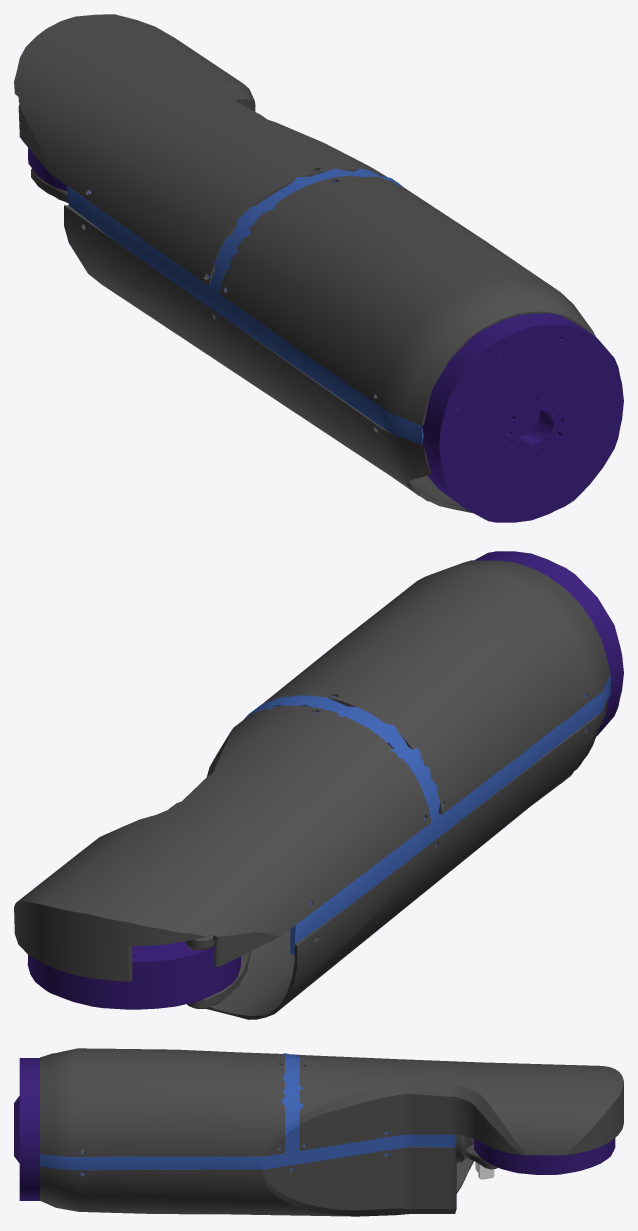
Rendered from right_shoulder_yaw.obj.
The picture shows the model from 3 angles, top to bottom: view 1: azimuth 30°, elevation 25°; view 2: azimuth 150°, elevation 25°; view 3: azimuth 270°, elevation 25°; orthographic projection. The views are drawn at different scales.
Parts seen in each view (by area): view 1: Left_Shell, AK80_9, Right_Shell, Back_Seam, Part_6; view 2: Left_Shell, Right_Shell, AK80_9, Back_Seam, Part_6, N16_23_P03_02_Link_Upper_Arm___Distal_Mount; view 3: Left_Shell, Right_Shell, AK80_9, Front_Seam, Part_6, N16_23_P03_02_Link_Upper_Arm___Distal_Mount.
Boxes of the visible parts, bbox=[...] form: Left_Shell: bbox=[14, 14, 595, 425]; AK80_9: bbox=[28, 147, 623, 522]; Right_Shell: bbox=[64, 205, 472, 513]; Back_Seam: bbox=[67, 186, 423, 445]; Part_6: bbox=[209, 168, 403, 291]; Left_Shell: bbox=[14, 560, 610, 981]; Right_Shell: bbox=[206, 699, 607, 1019]; AK80_9: bbox=[27, 551, 623, 1009]; Back_Seam: bbox=[290, 675, 610, 954]; Part_6: bbox=[244, 695, 443, 821]; N16_23_P03_02_Link_Upper_Arm___Distal_Mount: bbox=[185, 935, 250, 1008]; Left_Shell: bbox=[40, 1048, 623, 1157]; Right_Shell: bbox=[40, 1131, 473, 1216]; AK80_9: bbox=[14, 1058, 615, 1200]; Front_Seam: bbox=[40, 1131, 456, 1175]; Part_6: bbox=[278, 1053, 304, 1152]; N16_23_P03_02_Link_Upper_Arm___Distal_Mount: bbox=[455, 1134, 497, 1169].
Size of the model in its own units: 0.118 by 0.116 by 0.423.
